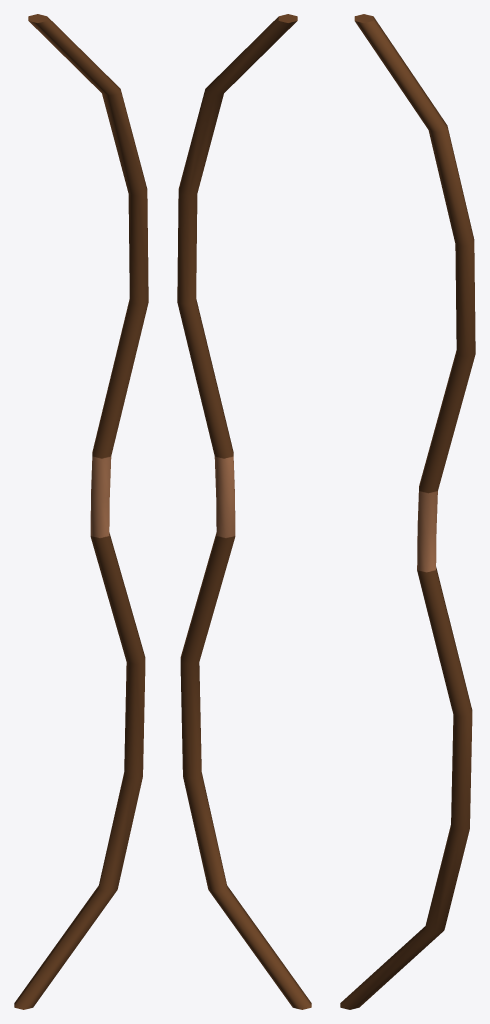
The model's file is Bow.fbx.
3 renders of one model, left to right at view 1: azimuth 30°, elevation 25°; view 2: azimuth 150°, elevation 25°; view 3: azimuth 330°, elevation 25°, orthographic.
Parts seen in each view (by area): view 1: node_id3; view 2: node_id3; view 3: node_id3.
Part boxes in pixels (left/top/right/bottom): node_id3: left=14, top=14, right=148, bottom=1009; node_id3: left=177, top=14, right=311, bottom=1009; node_id3: left=340, top=14, right=475, bottom=1009.
Size of the model in its own units: 0.0732 by 0.512 by 0.00887.
1 material, 1 textured.
